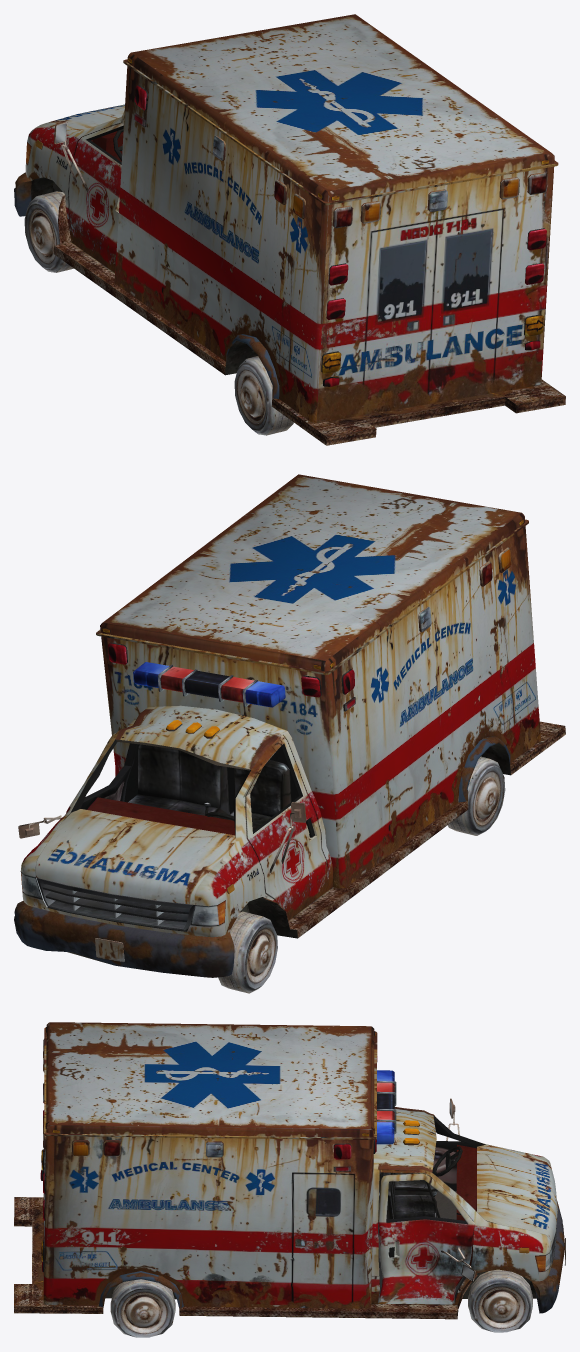
The model's file is source.glb.
3 renders of one model, top to bottom at view 1: azimuth 30°, elevation 25°; view 2: azimuth 150°, elevation 25°; view 3: azimuth 270°, elevation 25°, orthographic. The views are drawn at different scales.
Parts seen in each view (by area): view 1: ambulancecar; view 2: ambulancecar; view 3: ambulancecar.
Part boxes in pixels (box(x1,y1,x2,y2)): ambulancecar: box(14, 14, 565, 445); ambulancecar: box(14, 474, 565, 993); ambulancecar: box(14, 1022, 565, 1337).
Size of the model in its own units: 4.32 by 4.18 by 9.21.
1 material, 1 textured.
